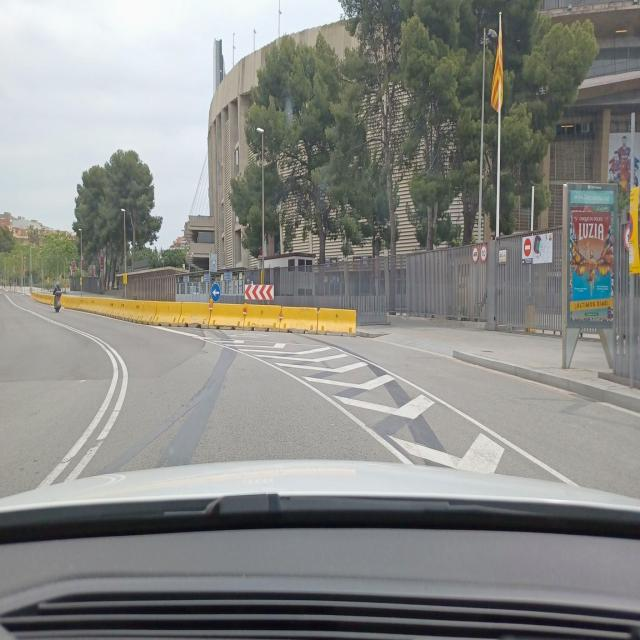bike: (53, 282, 62, 312)
